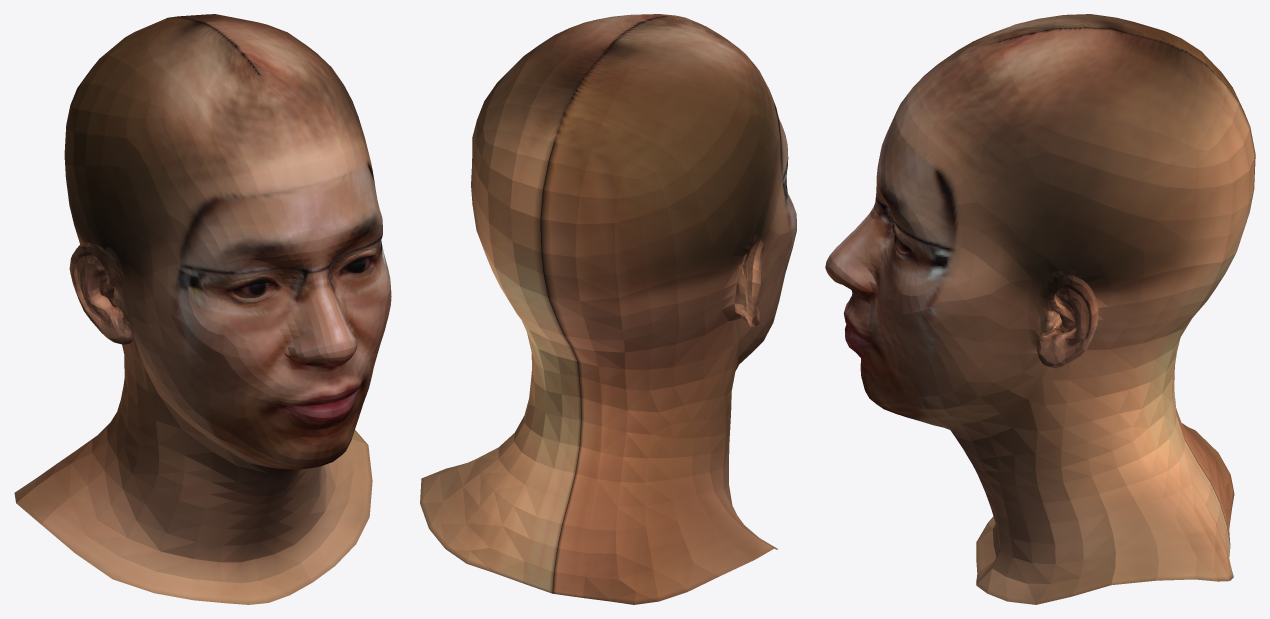
The picture shows the model from 3 angles, left to right: view 1: azimuth 30°, elevation 25°; view 2: azimuth 150°, elevation 25°; view 3: azimuth 270°, elevation 25°; orthographic projection. The views are drawn at different scales.
Parts seen in each view (by area): view 1: 1717486175; view 2: 1717486175; view 3: 1717486175.
Part boxes in pixels (x1=…): 1717486175: x1=14, y1=14, x2=391, y2=604; 1717486175: x1=420, y1=14, x2=796, y2=604; 1717486175: x1=825, y1=14, x2=1255, y2=604.
Size of the model in its own units: 20.85 by 32 by 22.82.
1 material, 1 textured.
